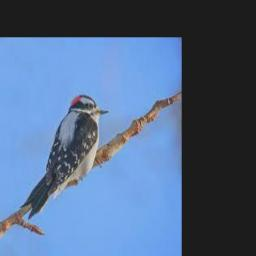Woodpecker: (21, 95, 109, 219)
